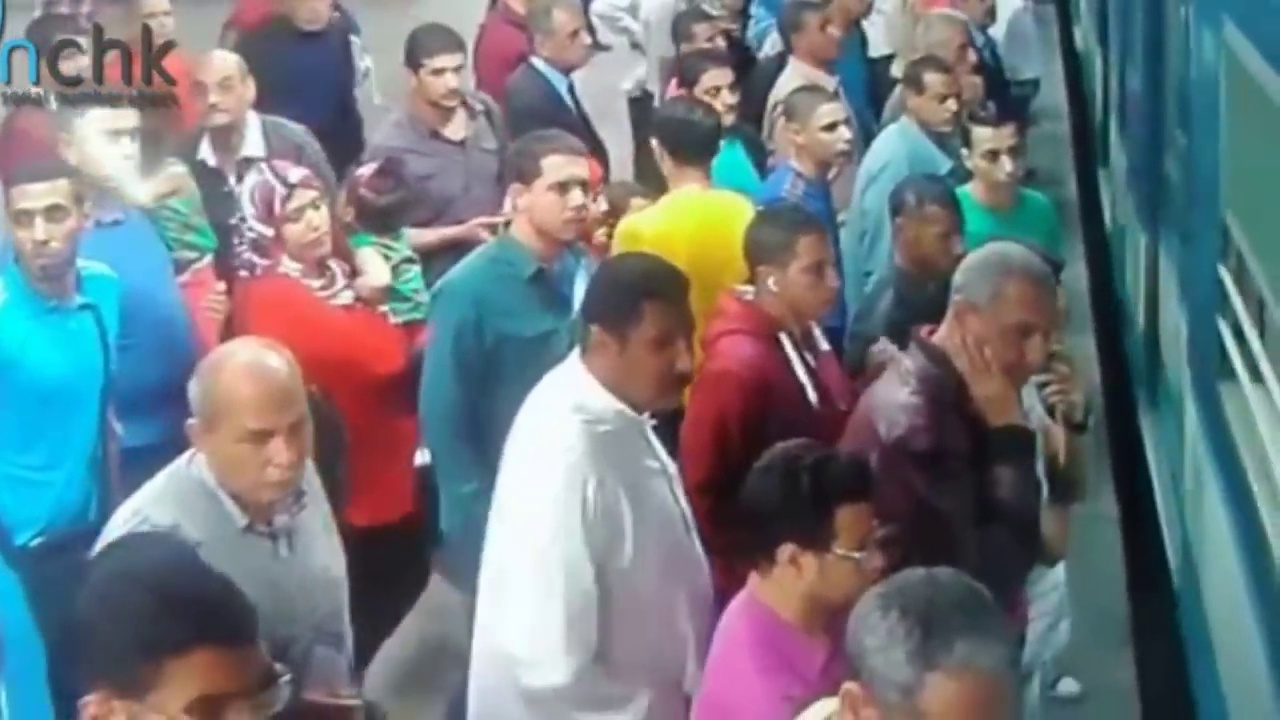face: (224, 396, 314, 502), (616, 314, 710, 414), (813, 507, 876, 609), (983, 289, 1047, 385), (6, 188, 71, 278), (781, 230, 842, 316), (272, 188, 339, 264), (528, 165, 589, 245), (966, 127, 1029, 197), (909, 205, 968, 276), (193, 65, 239, 132), (804, 104, 857, 161), (920, 75, 970, 134), (708, 69, 748, 132), (553, 10, 593, 67), (425, 58, 467, 104)
